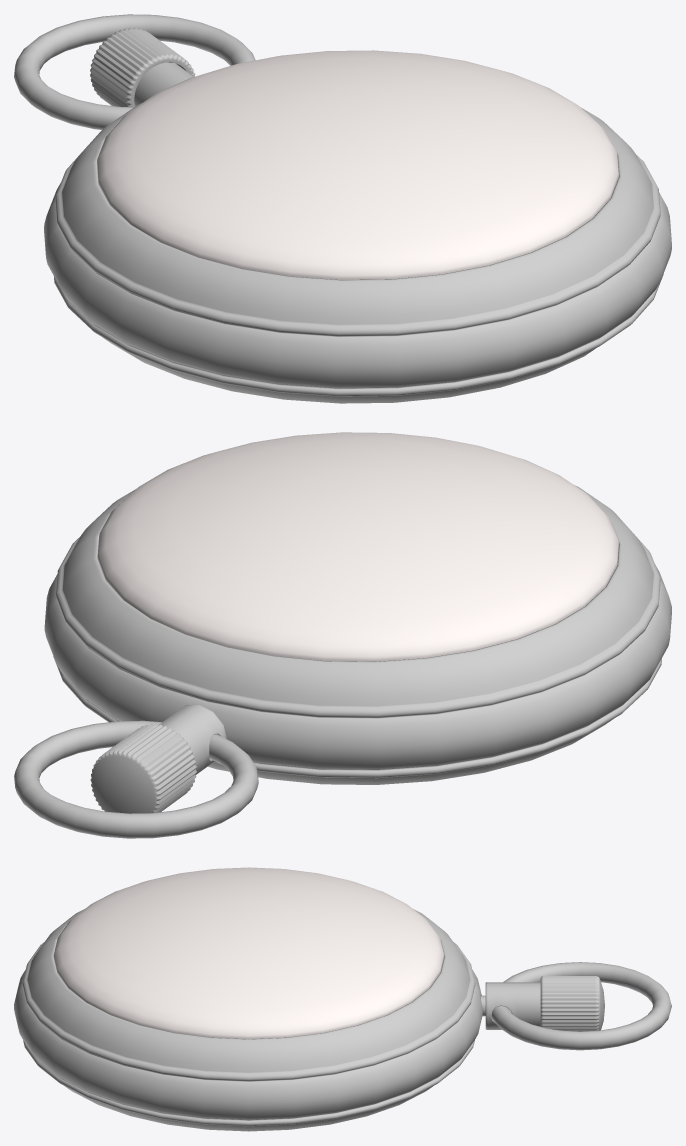
Rendered from stopwatch.obj.
3 views of the same model, one above another, from view 1: azimuth 30°, elevation 25°; view 2: azimuth 150°, elevation 25°; view 3: azimuth 270°, elevation 25° (orthographic). The views are drawn at different scales.
Visible parts, largest first — view 1: stopwatch_stopwatch, Object001; view 2: stopwatch_stopwatch, Object001; view 3: stopwatch_stopwatch, Object001.
Part boxes in pixels (bbox=[...]): stopwatch_stopwatch: bbox=[14, 14, 671, 403]; Object001: bbox=[97, 50, 618, 279]; stopwatch_stopwatch: bbox=[14, 485, 671, 838]; Object001: bbox=[97, 432, 618, 661]; stopwatch_stopwatch: bbox=[14, 908, 671, 1131]; Object001: bbox=[53, 867, 444, 1039].
Bounding box in the file's own units: 49 × 15.98 × 68.6.
